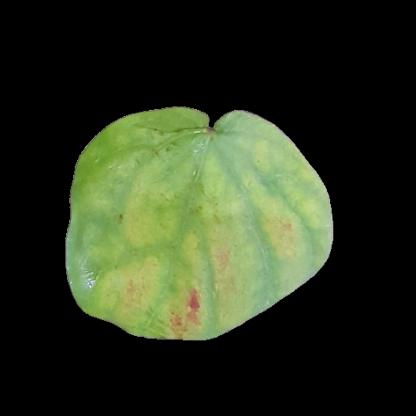curl_stage1: (125, 168, 247, 325), (252, 137, 311, 274), (82, 232, 127, 315)
